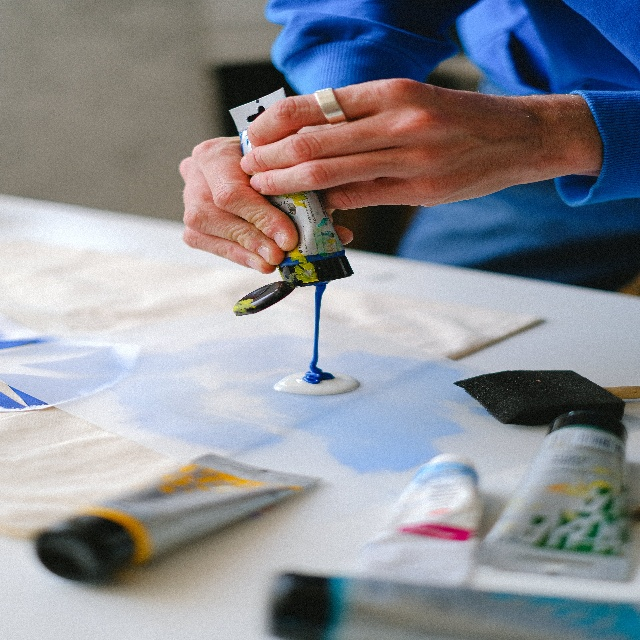Sin_guantes: (238, 73, 529, 210), (178, 134, 357, 275)
